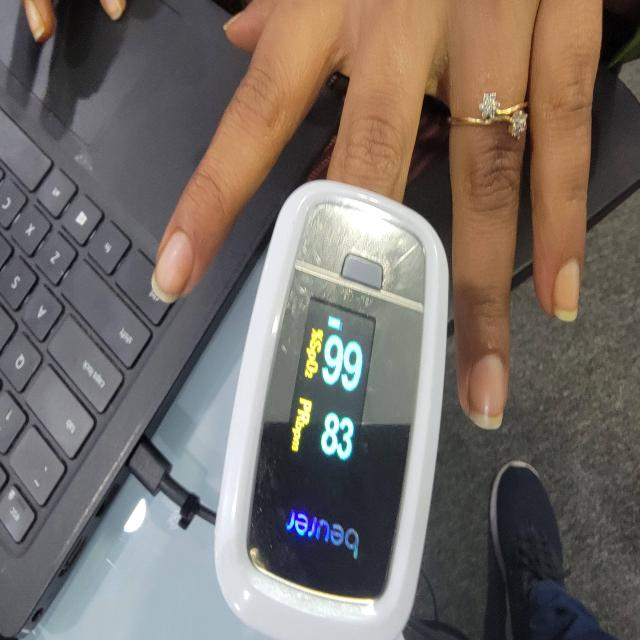spo2: (212, 181, 451, 640)
